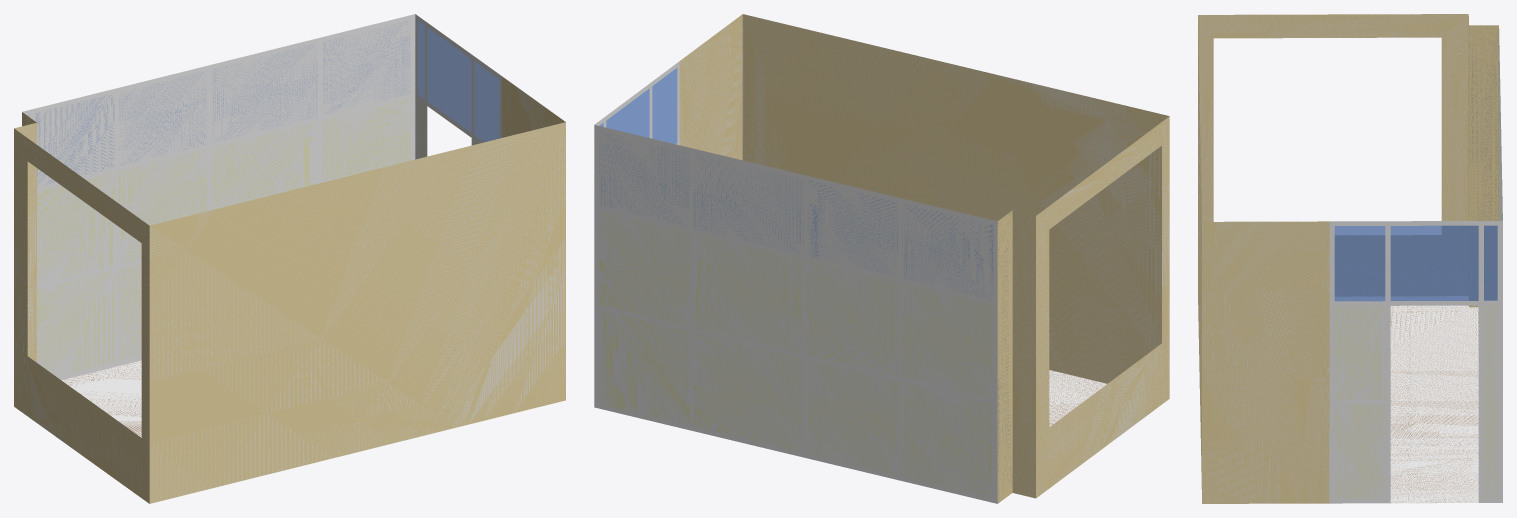
The model's file is DES032.obj.
3 views of the same model, side by side, from view 1: azimuth 30°, elevation 25°; view 2: azimuth 150°, elevation 25°; view 3: azimuth 270°, elevation 25° (orthographic).
Parts seen in each view (by area): view 1: Mesh1 DES032 Model; view 2: Mesh1 DES032 Model; view 3: Mesh1 DES032 Model.
Part boxes in pixels (<box>): Mesh1 DES032 Model: <box>14,14,565,503</box>; Mesh1 DES032 Model: <box>594,14,1169,503</box>; Mesh1 DES032 Model: <box>1198,14,1502,503</box>.
Size of the model in its own units: 4.74 by 3 by 2.94.
7 materials, 2 textured.
